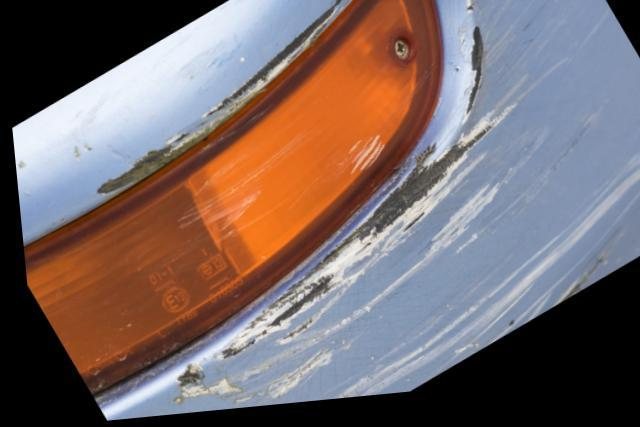scratch: (161, 0, 640, 416)
